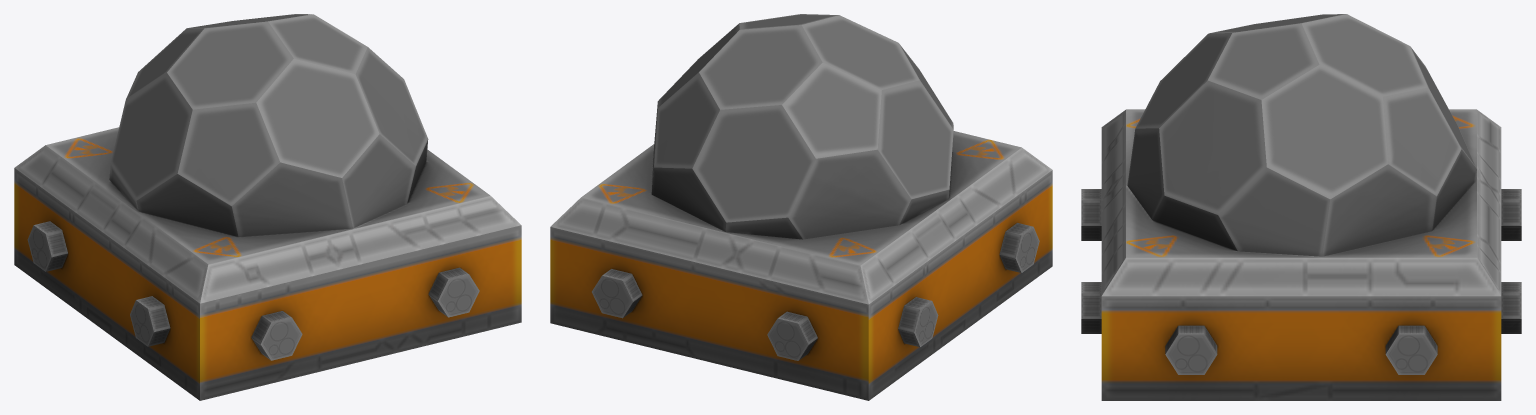
Rendered from RadarDome.dae.
3 views of the same model, side by side, from view 1: azimuth 30°, elevation 25°; view 2: azimuth 150°, elevation 25°; view 3: azimuth 270°, elevation 25° (orthographic). The views are drawn at different scales.
Parts seen in each view (by area): view 1: RadarDome; view 2: RadarDome; view 3: RadarDome.
Part boxes in pixels (x1,y1,x2,y2): RadarDome: [14, 14, 521, 400]; RadarDome: [550, 14, 1052, 400]; RadarDome: [1081, 14, 1521, 400].
Bounding box in the file's own units: 2 × 1.47 × 2.
